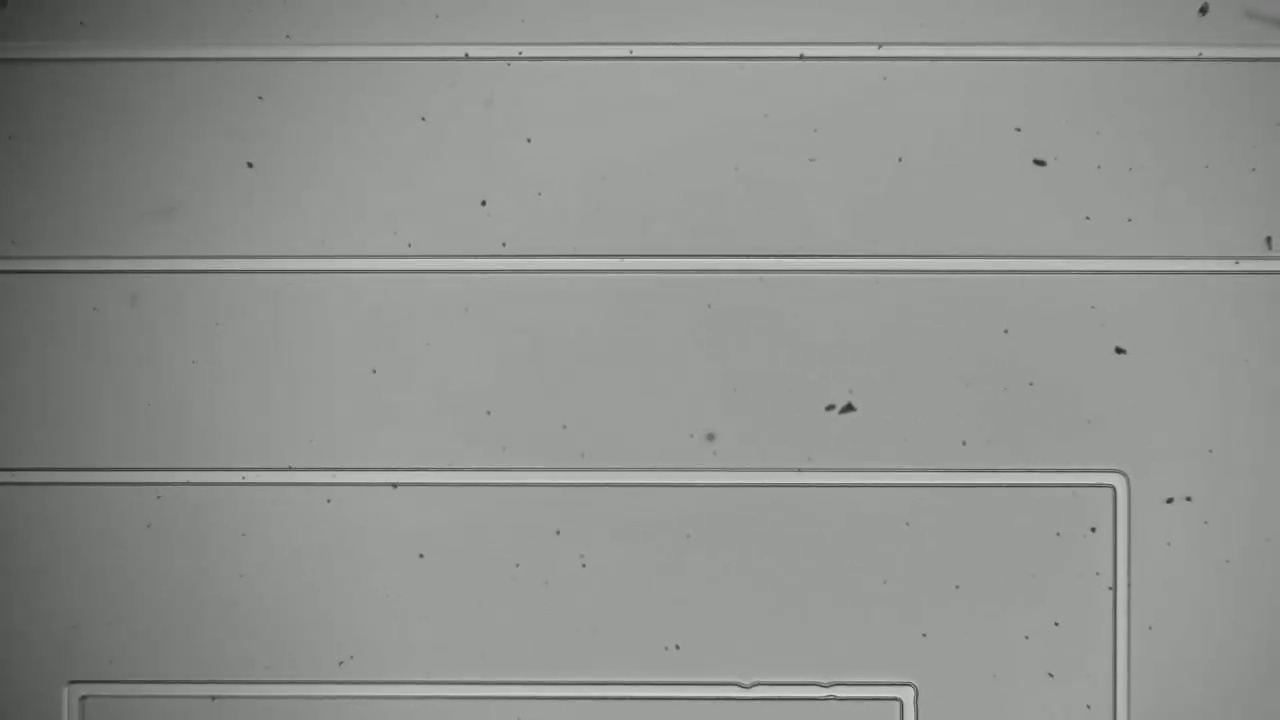edge_bite: (724, 671, 762, 709), (812, 676, 842, 707)
